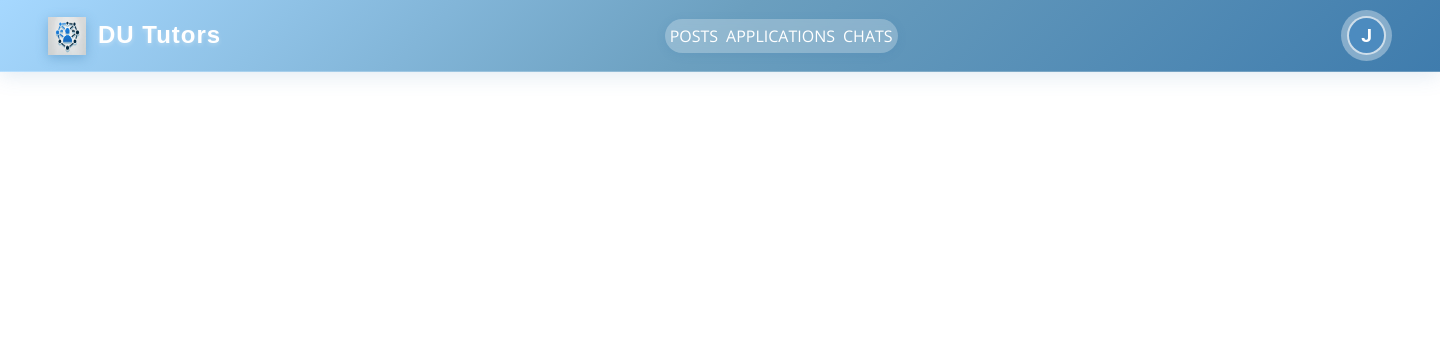
Test: Navbar Component › opens menu when avatar is clicked
The width and height of the screenshot is (1440, 344).
Click the button "J": [1366, 36] box [1341,10,1392,61]
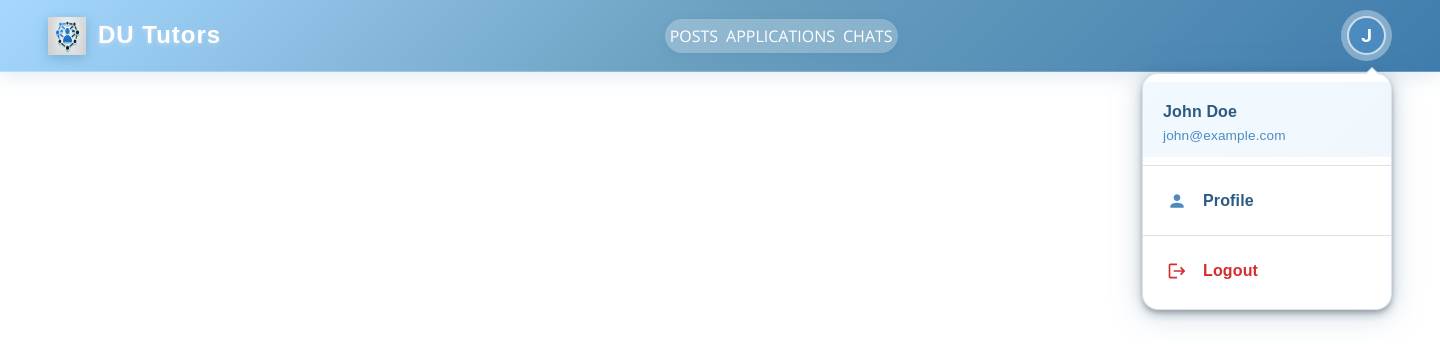
Now the heading "John Doe" is shown, box [1163,103,1237,120]
Now the text "john@example.com" is shown, box [1163,128,1286,143]
Now the text "Profile" is shown, box [1203,192,1254,209]
